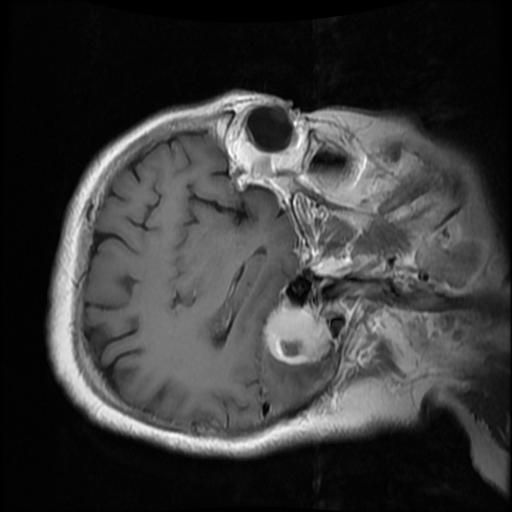meningioma: (264, 301, 331, 365)
